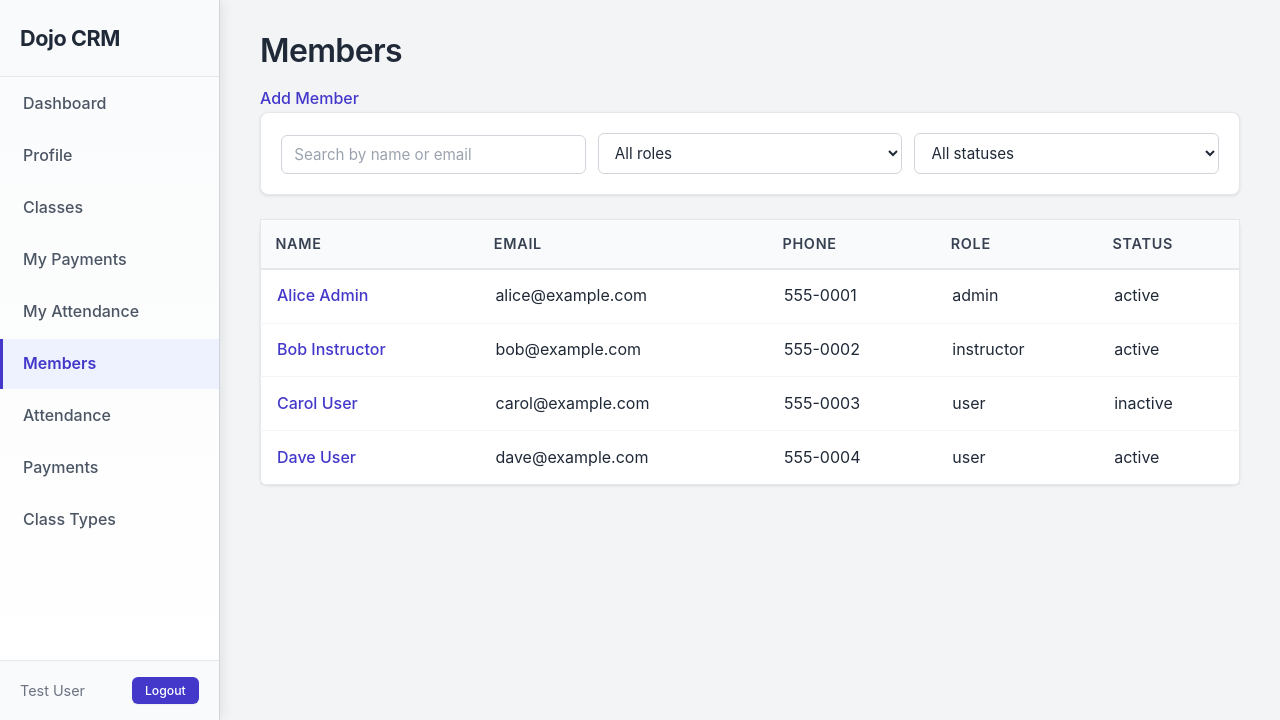
Test case: Members › filters by search text (email)
Expected: the link "Alice Admin" is shown, top-left (277, 285), bottom-right (368, 305)
Type "bob@" into the field named "Search members" at (433, 155), box top-left (281, 135), bottom-right (586, 174)
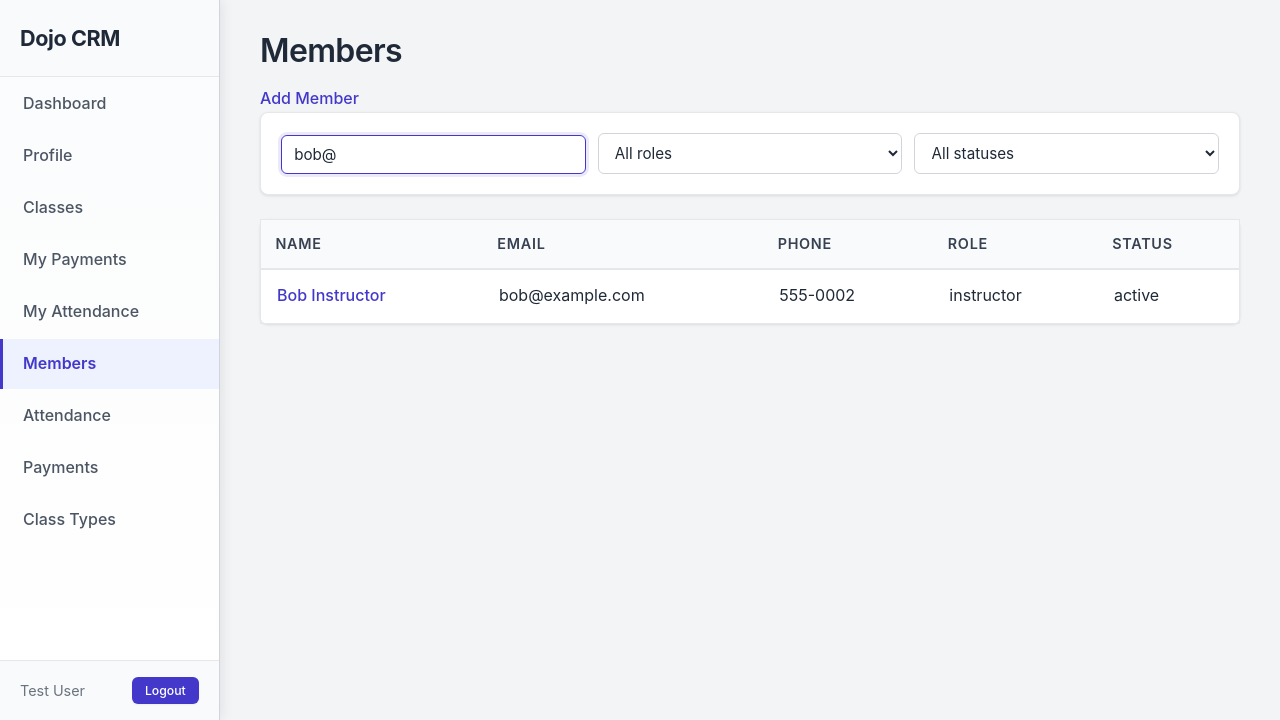
Expected: the link "Bob Instructor" is shown, top-left (277, 285), bottom-right (386, 305)
Result: the link "Alice Admin" is gone
